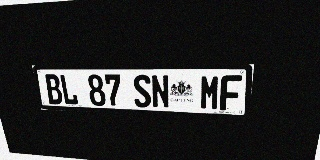7: (103, 74, 123, 107)
8: (87, 74, 106, 106)
B: (44, 74, 64, 105)
F: (220, 75, 242, 111)
L: (59, 74, 79, 105)
M: (200, 75, 220, 110)
N: (151, 75, 170, 108)
S: (132, 75, 152, 108)
